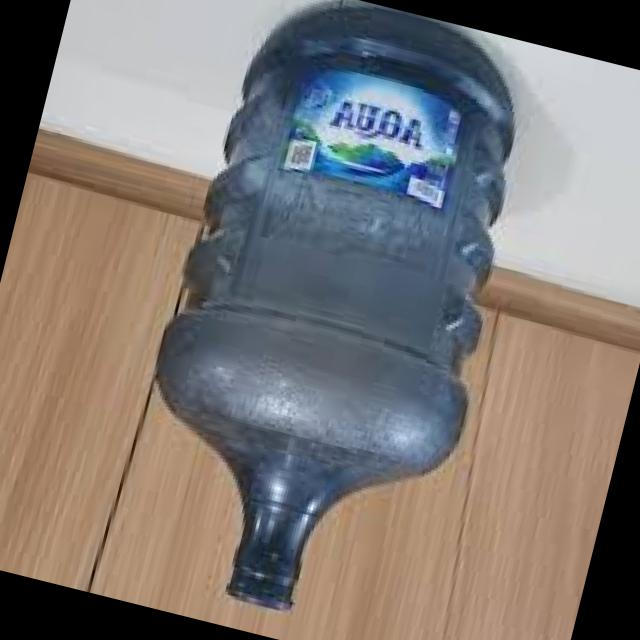Galon: (100, 0, 555, 640)
